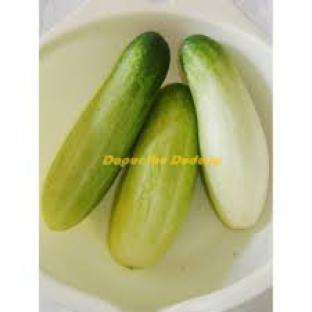Cucumber: (42, 32, 169, 230), (181, 35, 269, 228), (109, 84, 198, 267)
